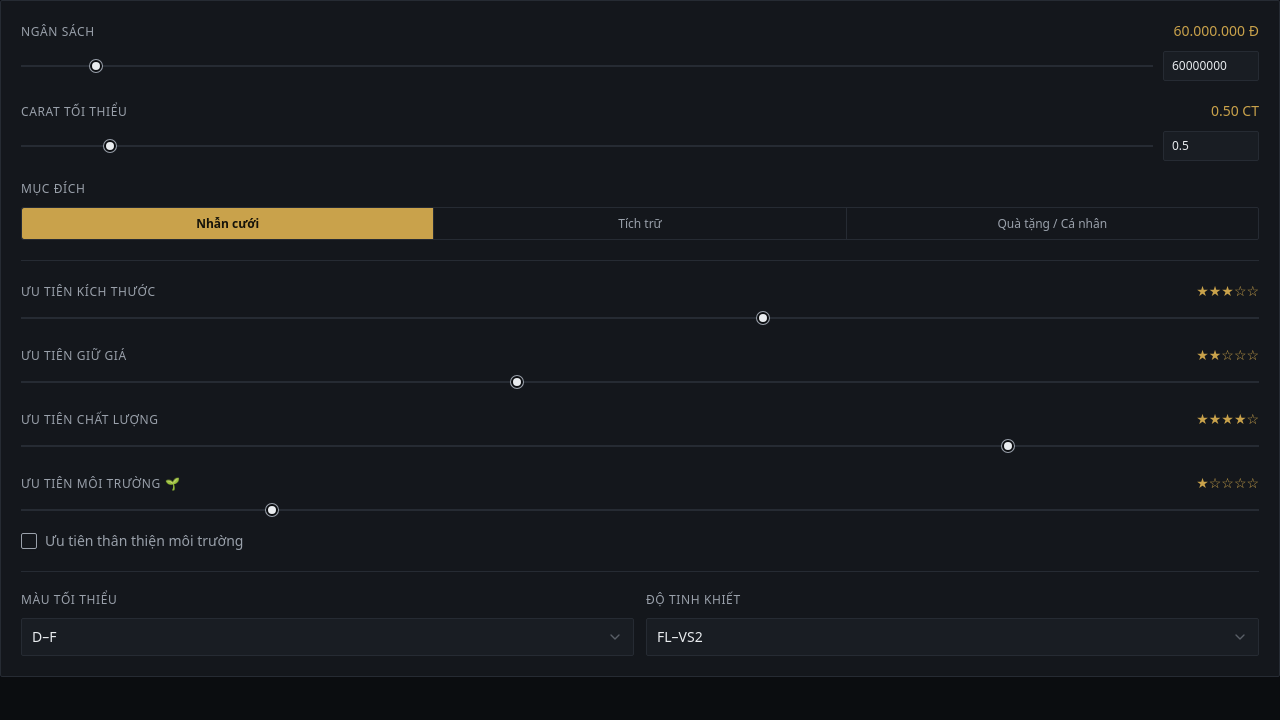
Scenario: CriteriaSidebar › choosing a purpose applies its weight preset to the store and the stars
This screenshot has width=1280, height=720.
Click the radio button labelled "Tích trữ": [640, 224] box [434,208,847,239]
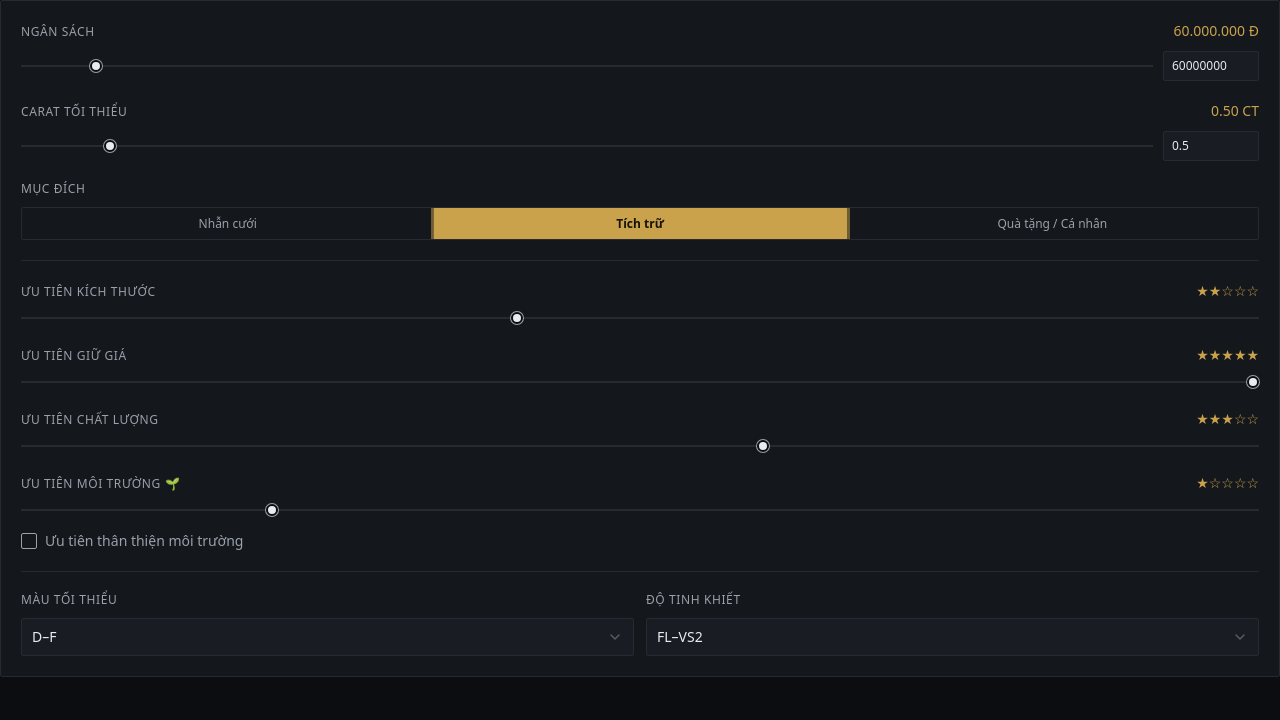
expect the text "★★★★★" is shown: met, box [1196,345,1259,365]
